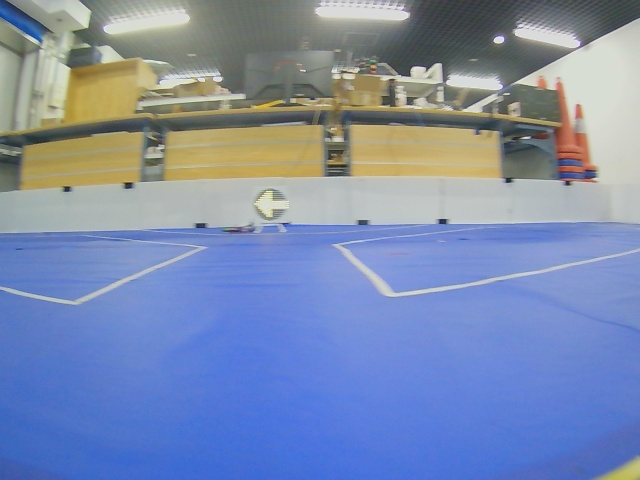left_yellow: (253, 188, 290, 221)
